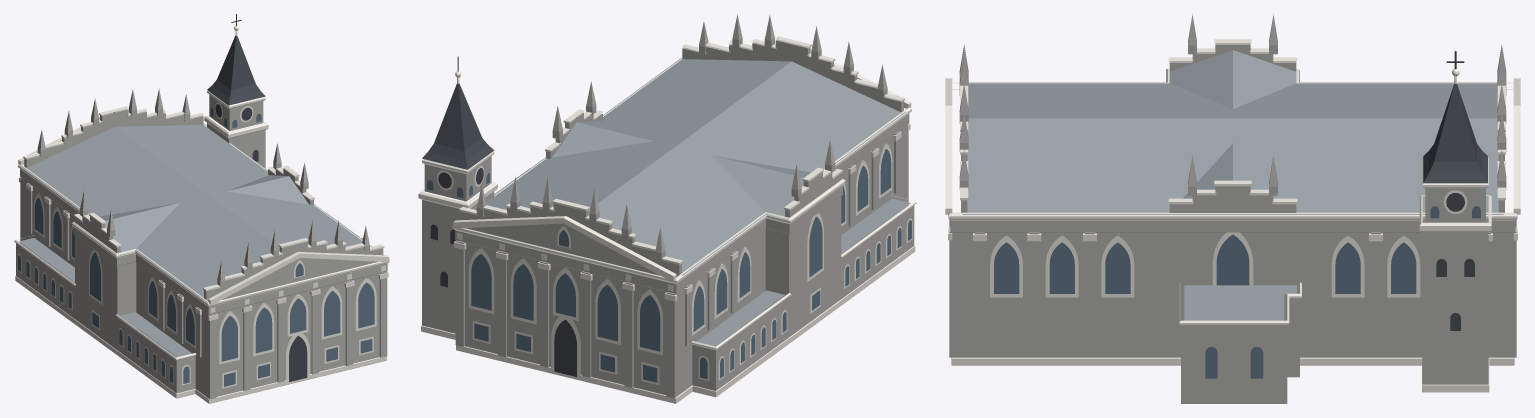
The model's file is cpt-groote-kerk.glb.
3 views of the same model, side by side, from view 1: azimuth 30°, elevation 25°; view 2: azimuth 150°, elevation 25°; view 3: azimuth 270°, elevation 25° (orthographic). The views are drawn at different scales.
Parts seen in each view (by area): view 1: Groote Kerk; view 2: Groote Kerk; view 3: Groote Kerk.
Boxes of the visible parts, x1,y1,x2,y2 form: Groote Kerk: [14, 14, 389, 403]; Groote Kerk: [418, 14, 916, 403]; Groote Kerk: [945, 14, 1520, 403].
Size of the model in its own units: 34.45 by 28.56 by 45.5.
